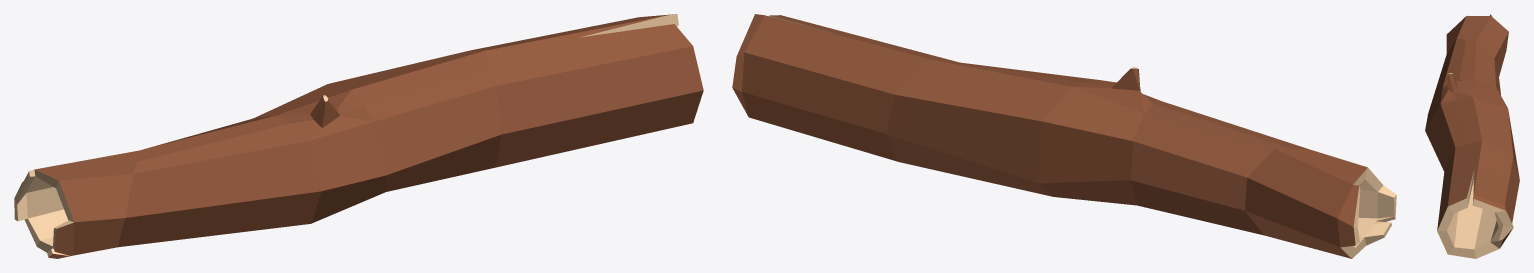
The model's file is Textured Log.fbx.
3 renders of one model, left to right at view 1: azimuth 30°, elevation 25°; view 2: azimuth 150°, elevation 25°; view 3: azimuth 270°, elevation 25°, orthographic. The views are drawn at different scales.
Parts seen in each view (by area): view 1: Circle; view 2: Circle; view 3: Circle.
Boxes of the visible parts, x1,y1,x2,y2 form: Circle: (14, 14, 703, 258); Circle: (732, 14, 1396, 258); Circle: (1425, 14, 1519, 258).
Bounding box in the file's own units: 4119 × 768 × 850.
